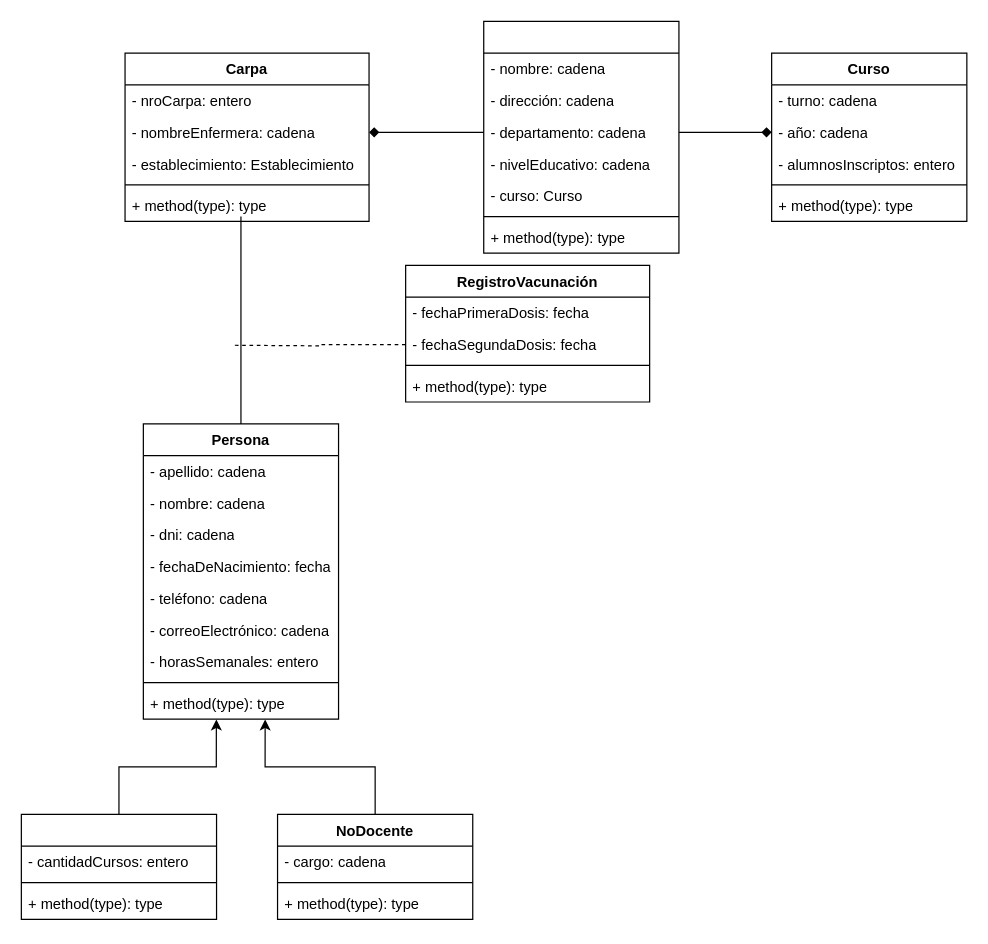
Image size: 988x944. Some labels were removed from this diagram. The box of each missing label's shape, as (x1, y1, x2, y2) in pixels:
Docente: (20, 813, 217, 919)
Establecimiento: (483, 20, 679, 253)
